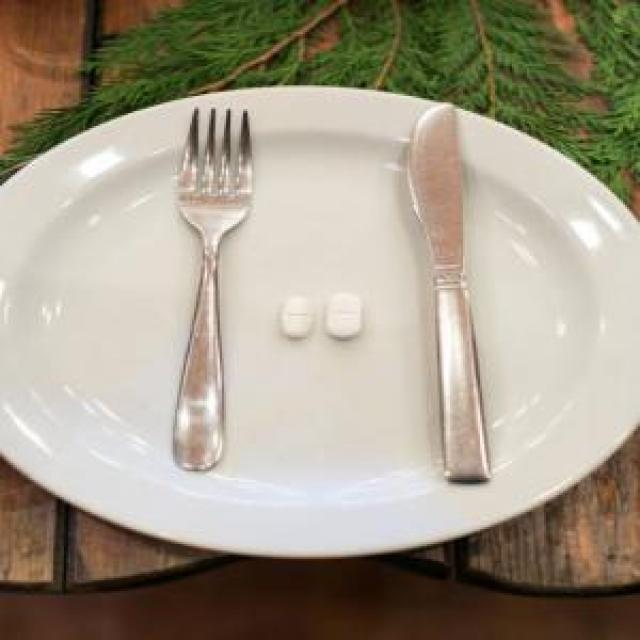knife: (405, 105, 493, 484)
